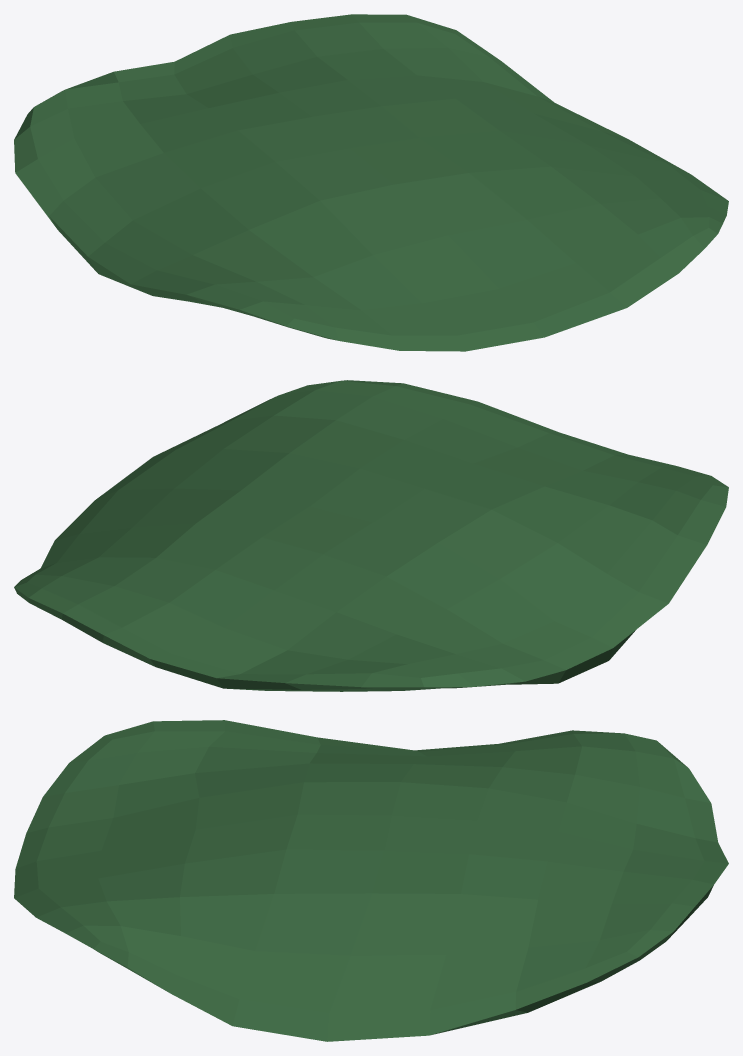
Rendered from Coral_platform_006.glb.
3 renders of one model, top to bottom at view 1: azimuth 30°, elevation 25°; view 2: azimuth 150°, elevation 25°; view 3: azimuth 270°, elevation 25°, orthographic.
Parts seen in each view (by area): view 1: Coral_platform_006; view 2: Coral_platform_006; view 3: Coral_platform_006.
Boxes of the visible parts, box(x1,y1,x2,y2) form: Coral_platform_006: box(14, 14, 728, 351); Coral_platform_006: box(14, 380, 728, 691); Coral_platform_006: box(14, 720, 728, 1041).
Bounding box in the file's own units: 1.81 × 0.38 × 2.
Materials: 1 (1 with a texture image).
